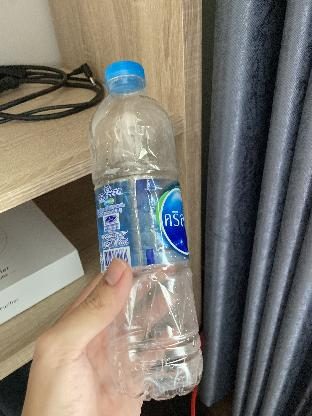Plastic Bottle: (89, 49, 205, 403)
